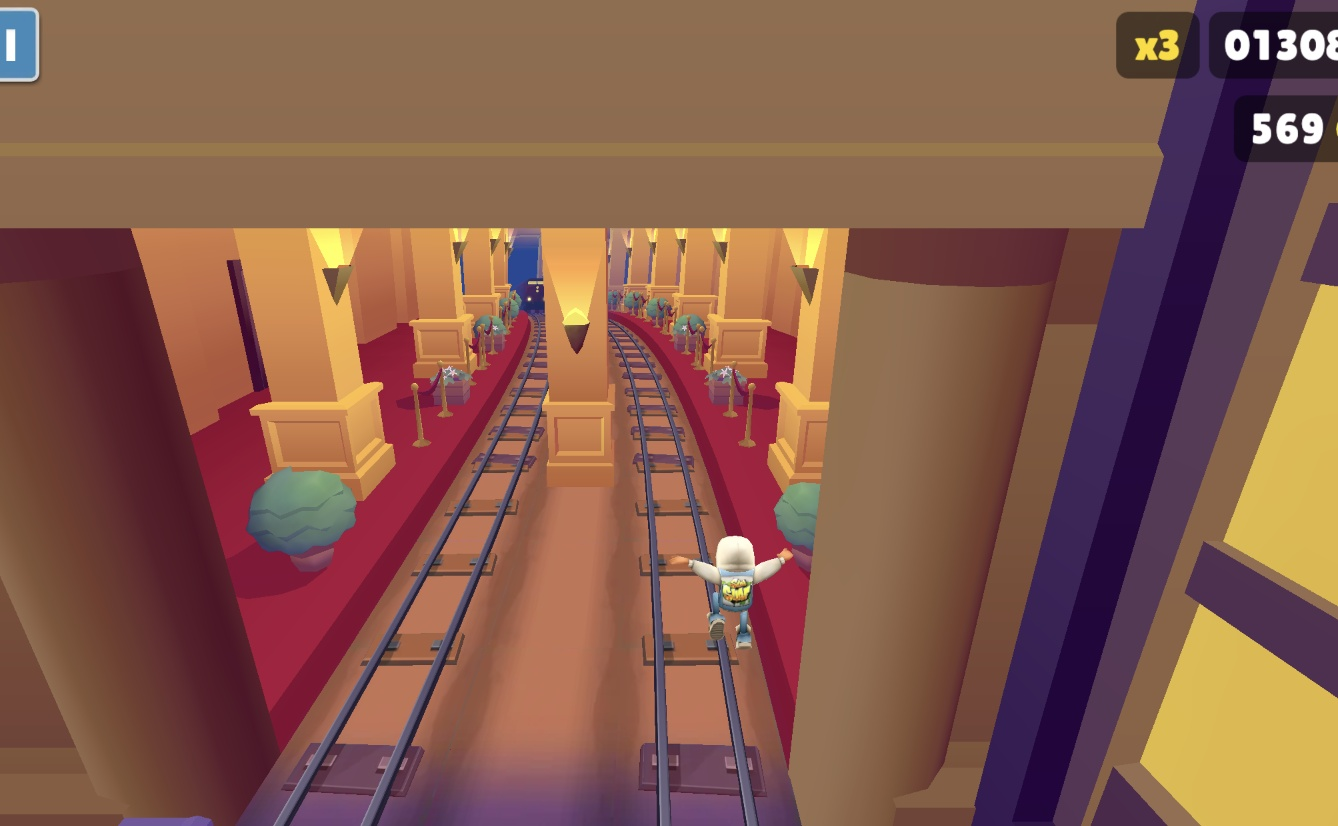pillar: (542, 230, 622, 472)
